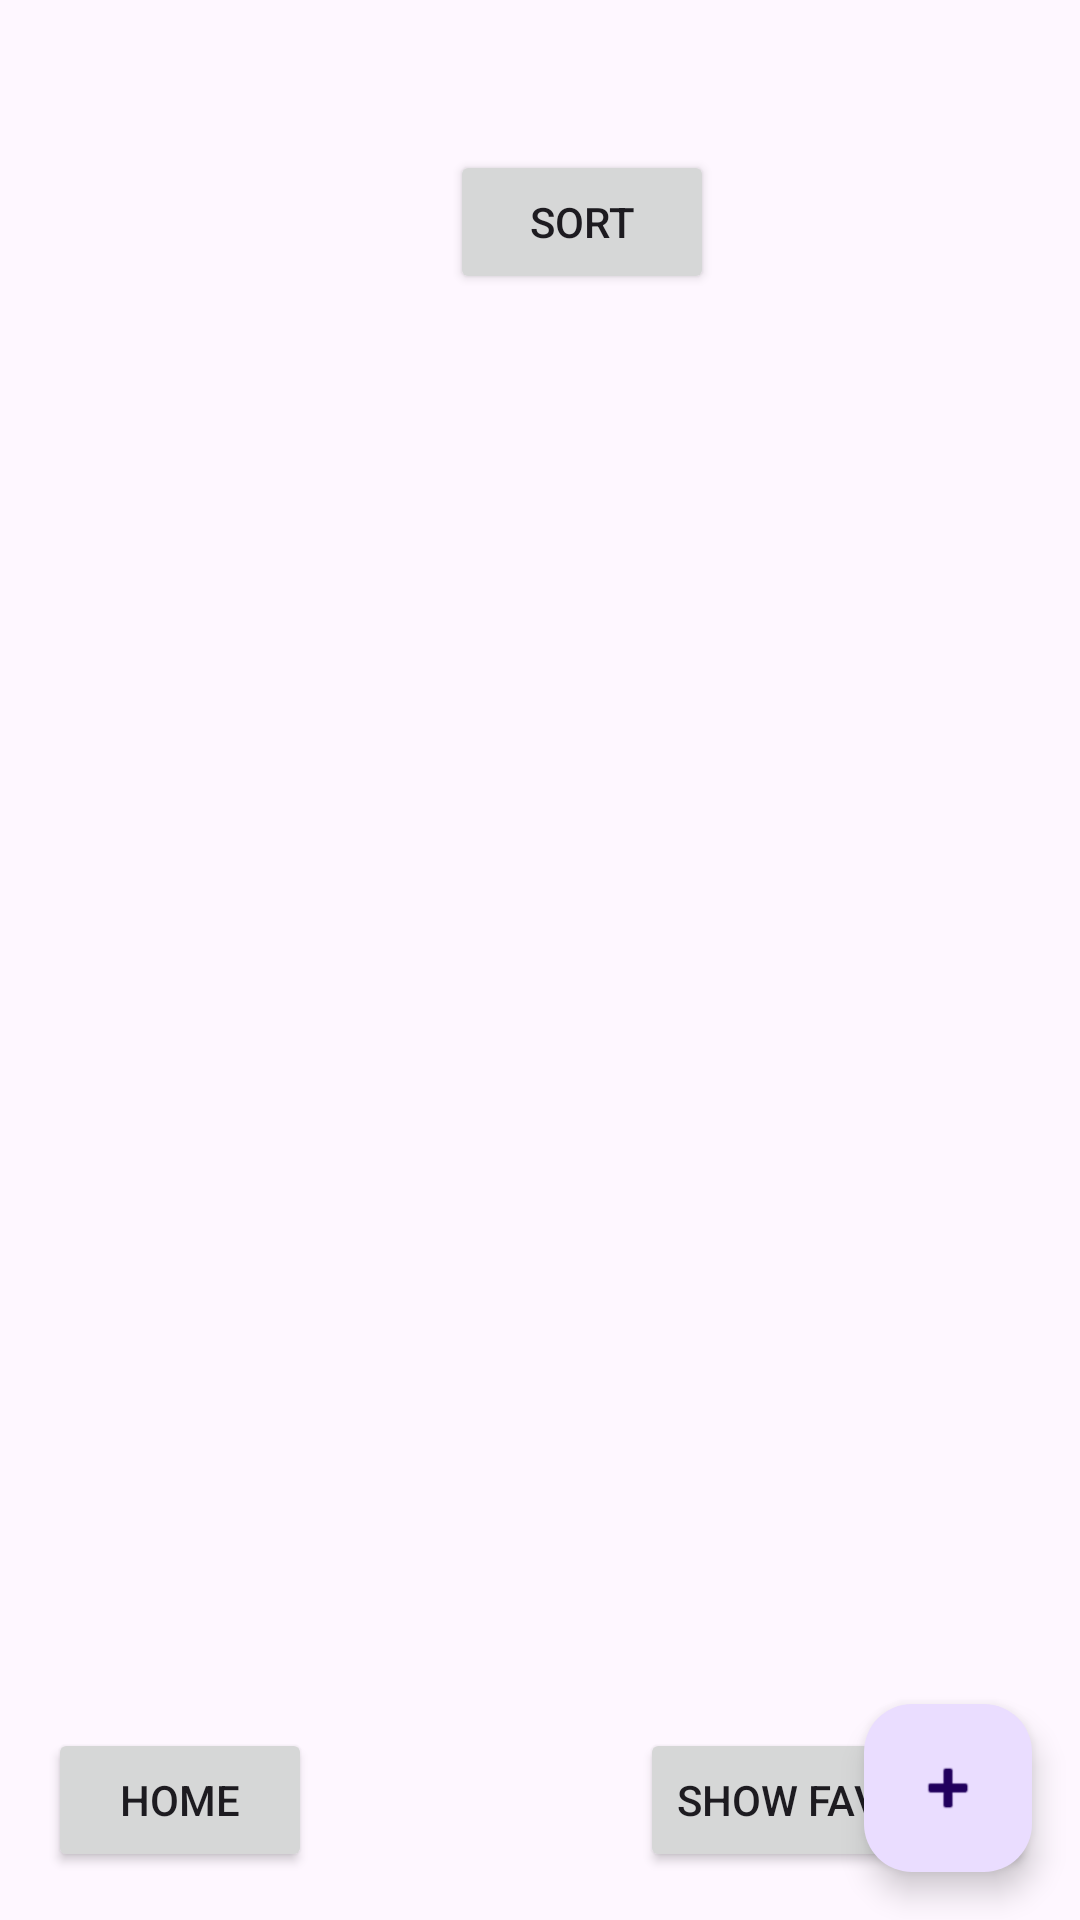

Icon click points for this 1080×1920 phone screenshot, format (x,y):
Добавить велосипед: (948,1788)
